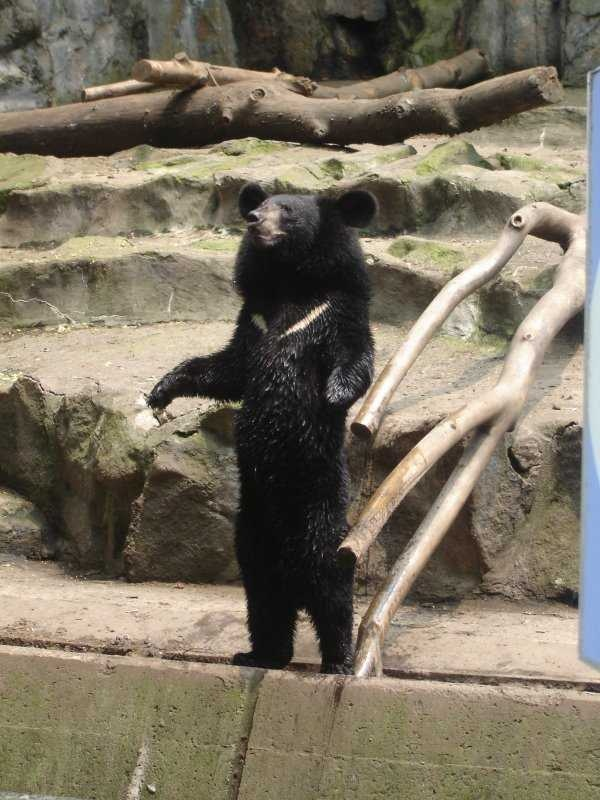bear: (229, 180, 357, 308), (243, 307, 371, 435), (134, 322, 262, 450)
